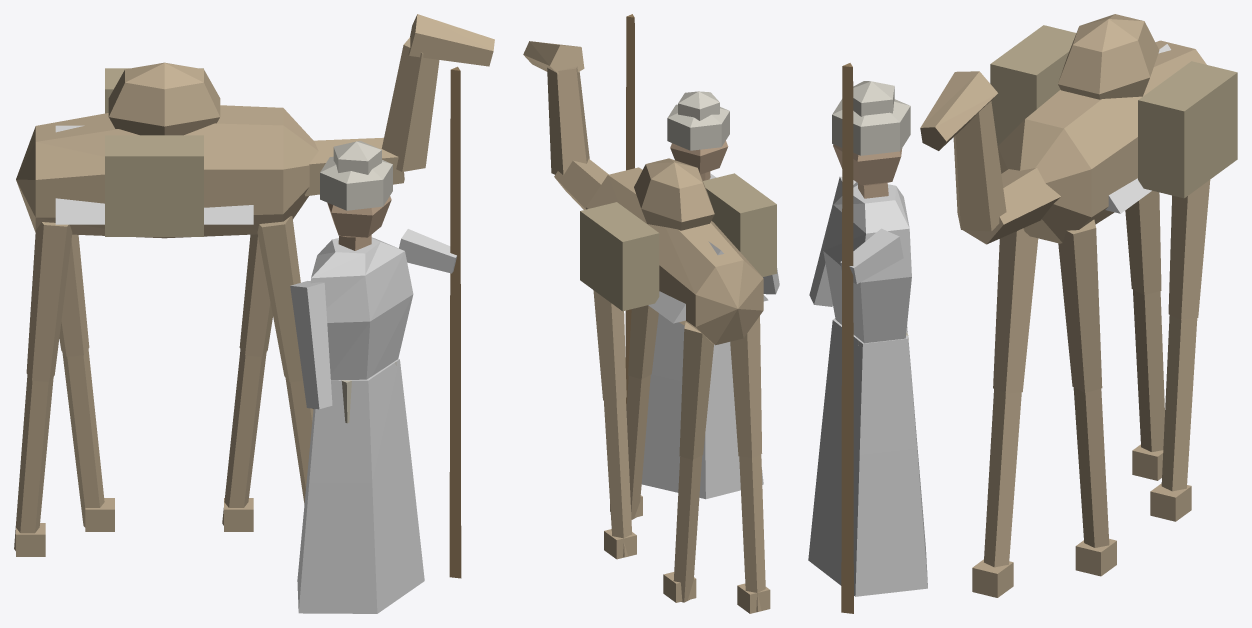
The model's file is caravan.glb.
3 views of the same model, side by side, from view 1: azimuth 30°, elevation 25°; view 2: azimuth 150°, elevation 25°; view 3: azimuth 270°, elevation 25° (orthographic). The views are drawn at different scales.
Parts seen in each view (by area): view 1: LOD0; view 2: LOD0; view 3: LOD0.
Boxes of the visible parts, bbox=[...] form: LOD0: bbox=[14, 14, 494, 613]; LOD0: bbox=[523, 14, 779, 613]; LOD0: bbox=[808, 14, 1237, 613].
Size of what is drawn, in the model's own units: 0.8901 by 1.16 by 0.8049.
